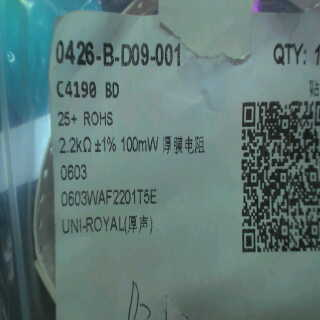2.2kR: (55, 135, 93, 157)
